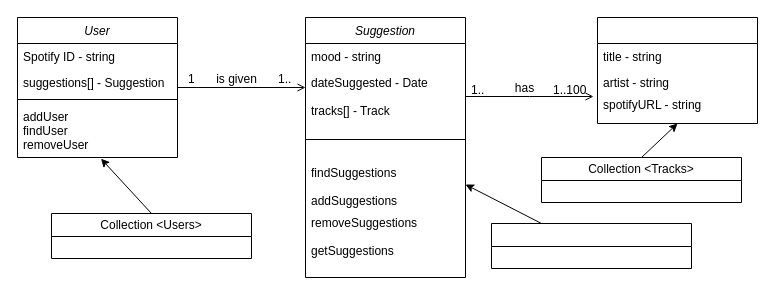
This 775x295 diagram has some shape labels left out. The shapes that lost their labels are listed below. From the top down, each one's box as (x1, y1, x2, y2) in pixels, then its label:
(596, 16, 758, 124): Track
(490, 222, 692, 268): Collection <Suggestions>
